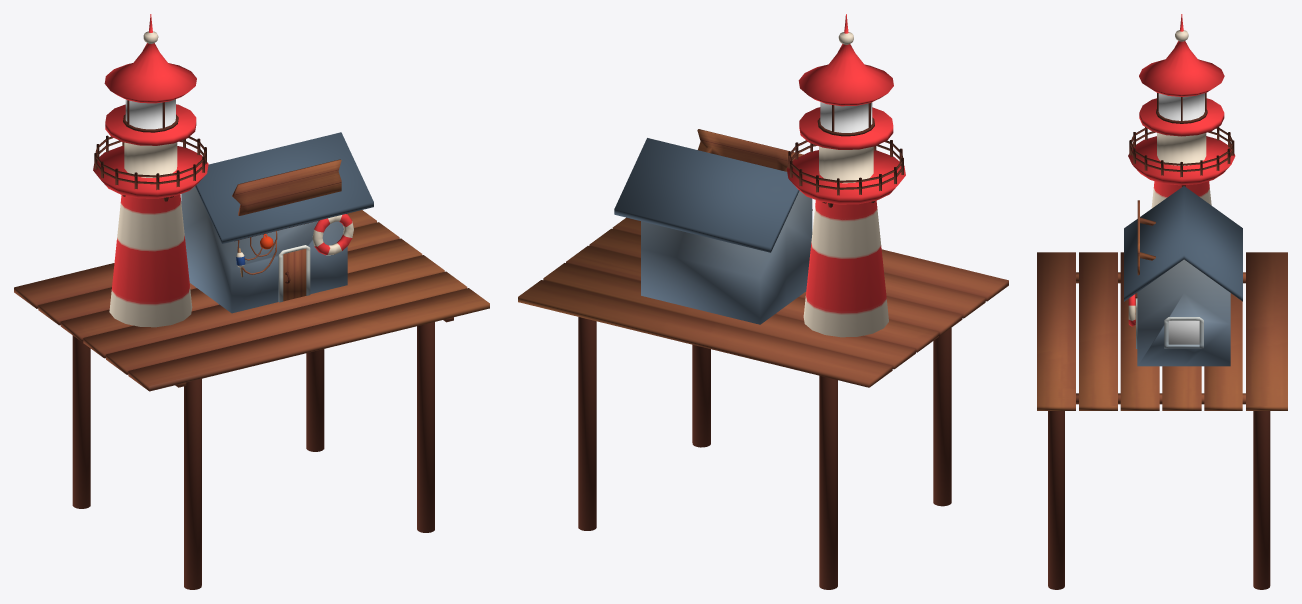
The model's file is majakka.fbx.
3 renders of one model, left to right at view 1: azimuth 30°, elevation 25°; view 2: azimuth 150°, elevation 25°; view 3: azimuth 270°, elevation 25°, orthographic. The views are drawn at different scales.
Visible parts, largest first — view 1: Pier, lighthouse, shack, sign, railing, Door, life belt, Door frame; view 2: Pier, shack, lighthouse, sign, railing; view 3: Pier, shack, lighthouse, railing, window frame, sign, lighthouse framing.
Part boxes in pixels (left/top/right/bottom): Pier: left=14, top=210, right=489, bottom=589; lighthouse: left=93, top=14, right=208, bottom=327; shack: left=181, top=132, right=373, bottom=313; sign: left=232, top=159, right=341, bottom=215; railing: left=94, top=135, right=206, bottom=189; Door: left=283, top=249, right=306, bottom=301; life belt: left=312, top=214, right=353, bottom=255; Door frame: left=278, top=245, right=310, bottom=302; Pier: left=518, top=217, right=1008, bottom=589; shack: left=614, top=138, right=812, bottom=324; lighthouse: left=787, top=14, right=905, bottom=337; sign: left=697, top=129, right=803, bottom=171; railing: left=788, top=140, right=903, bottom=195; Pier: left=1037, top=252, right=1287, bottom=589; shack: left=1124, top=186, right=1242, bottom=366; lighthouse: left=1128, top=14, right=1235, bottom=208; railing: left=1129, top=127, right=1234, bottom=177; window frame: left=1164, top=317, right=1203, bottom=348; sign: left=1137, top=200, right=1155, bottom=275; lighthouse framing: left=1156, top=92, right=1207, bottom=123.
Size of the model in its own units: 404 by 585 by 278.
Materials: 16 (15 with a texture image).
